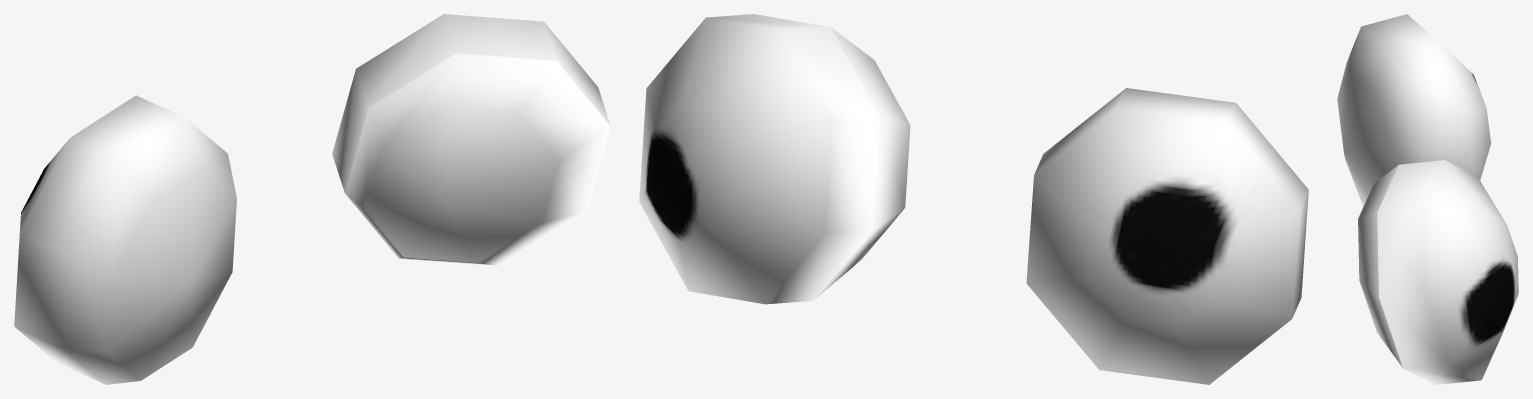
File: Eyes.glb
The picture shows the model from 3 angles, left to right: view 1: azimuth 30°, elevation 25°; view 2: azimuth 150°, elevation 25°; view 3: azimuth 270°, elevation 25°; orthographic projection. The views are drawn at different scales.
Parts seen in each view (by area): view 1: Eyes; view 2: Eyes; view 3: Eyes.
Boxes of the visible parts, bbox=[...] form: Eyes: bbox=[14, 14, 610, 384]; Eyes: bbox=[639, 14, 1308, 384]; Eyes: bbox=[1337, 14, 1518, 384].
Size of the model in its own units: 3.67 by 1.52 by 1.22.
Materials: 1 (1 with a texture image).
